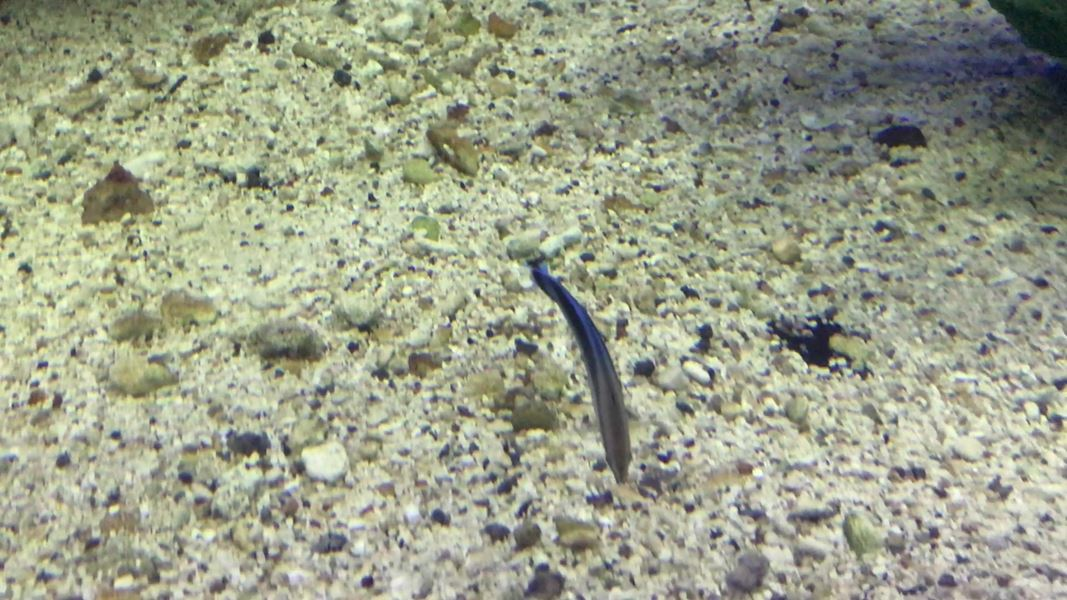Bluesteak cleaner wrasse: (519, 243, 638, 493)
